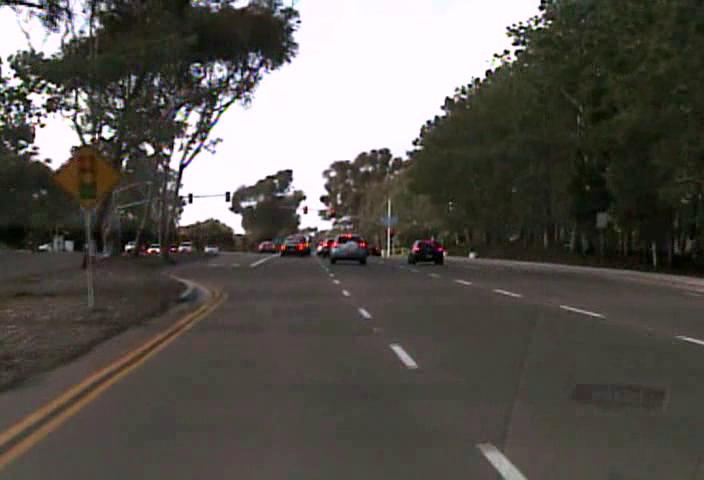signalAhead: (51, 142, 122, 211)
